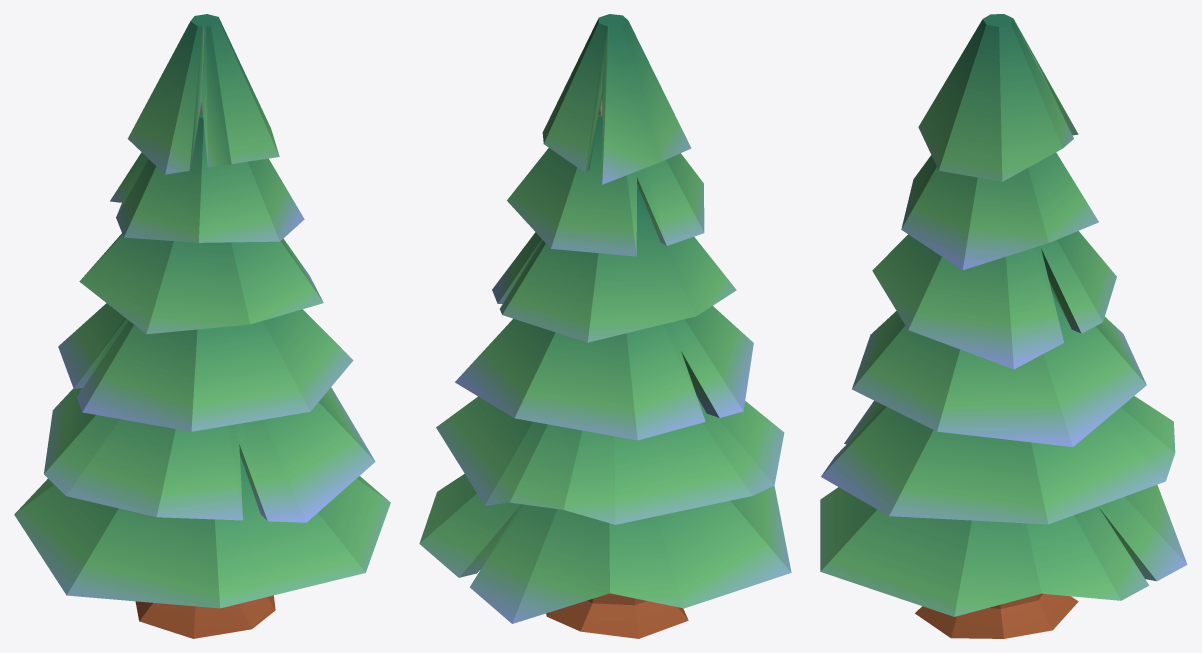
File: tree.glb
The picture shows the model from 3 angles, left to right: view 1: azimuth 30°, elevation 25°; view 2: azimuth 150°, elevation 25°; view 3: azimuth 270°, elevation 25°; orthographic projection.
Parts seen in each view (by area): view 1: Cylinder, Cylinder.002, Cylinder.003, Cylinder.004, Cylinder.007, Cylinder.005, Cube.001; view 2: Cylinder, Cylinder.002, Cylinder.003, Cylinder.004, Cylinder.005, Cylinder.007, Cube.001; view 3: Cylinder, Cylinder.002, Cylinder.003, Cylinder.004, Cylinder.007, Cylinder.005, Cube.001.
Boxes of the visible parts, x1,y1,x2,y2 form: Cylinder: [14, 455, 390, 608]; Cylinder.002: [44, 387, 375, 522]; Cylinder.003: [58, 303, 353, 431]; Cylinder.004: [79, 233, 323, 334]; Cylinder.007: [127, 14, 279, 174]; Cylinder.005: [110, 113, 304, 242]; Cube.001: [135, 102, 275, 638]; Cylinder: [419, 474, 791, 623]; Cylinder.002: [436, 396, 784, 524]; Cylinder.003: [455, 306, 753, 440]; Cylinder.004: [492, 187, 736, 342]; Cylinder.005: [507, 115, 704, 256]; Cylinder.007: [542, 14, 691, 184]; Cube.001: [546, 97, 688, 638]; Cylinder: [820, 484, 1187, 616]; Cylinder.002: [821, 396, 1175, 524]; Cylinder.003: [852, 291, 1146, 446]; Cylinder.004: [872, 231, 1116, 369]; Cylinder.007: [918, 14, 1078, 181]; Cylinder.005: [901, 152, 1098, 270]; Cube.001: [915, 593, 1078, 638].
Size of the model in its own units: 2.64 by 4.61 by 2.56.
Materials: 1 (1 with a texture image).
